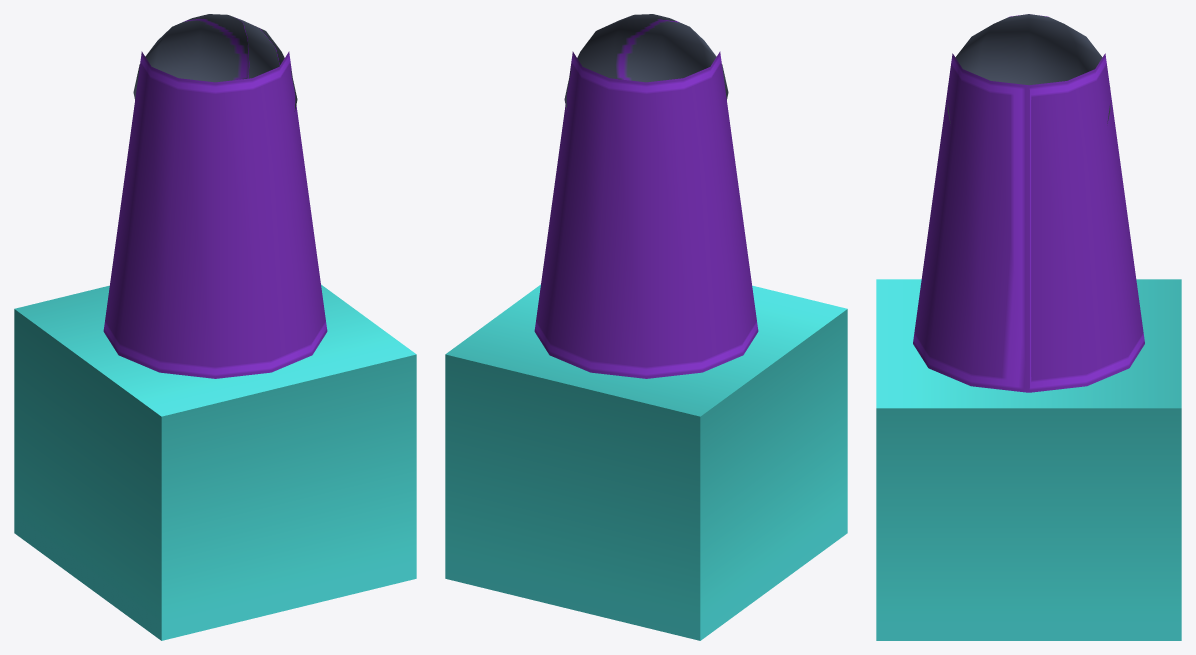
The model's file is acoustic_crystal.glb.
3 renders of one model, left to right at view 1: azimuth 30°, elevation 25°; view 2: azimuth 150°, elevation 25°; view 3: azimuth 270°, elevation 25°, orthographic. The views are drawn at different scales.
Visible parts, largest first — view 1: acoustic_crystal; view 2: acoustic_crystal; view 3: acoustic_crystal.
Boxes of the visible parts, x1,y1,x2,y2 form: acoustic_crystal: [14, 14, 416, 640]; acoustic_crystal: [445, 14, 847, 640]; acoustic_crystal: [876, 14, 1181, 640].
Bounding box in the file's own units: 1 × 2 × 1.
Materials: 1 (1 with a texture image).
